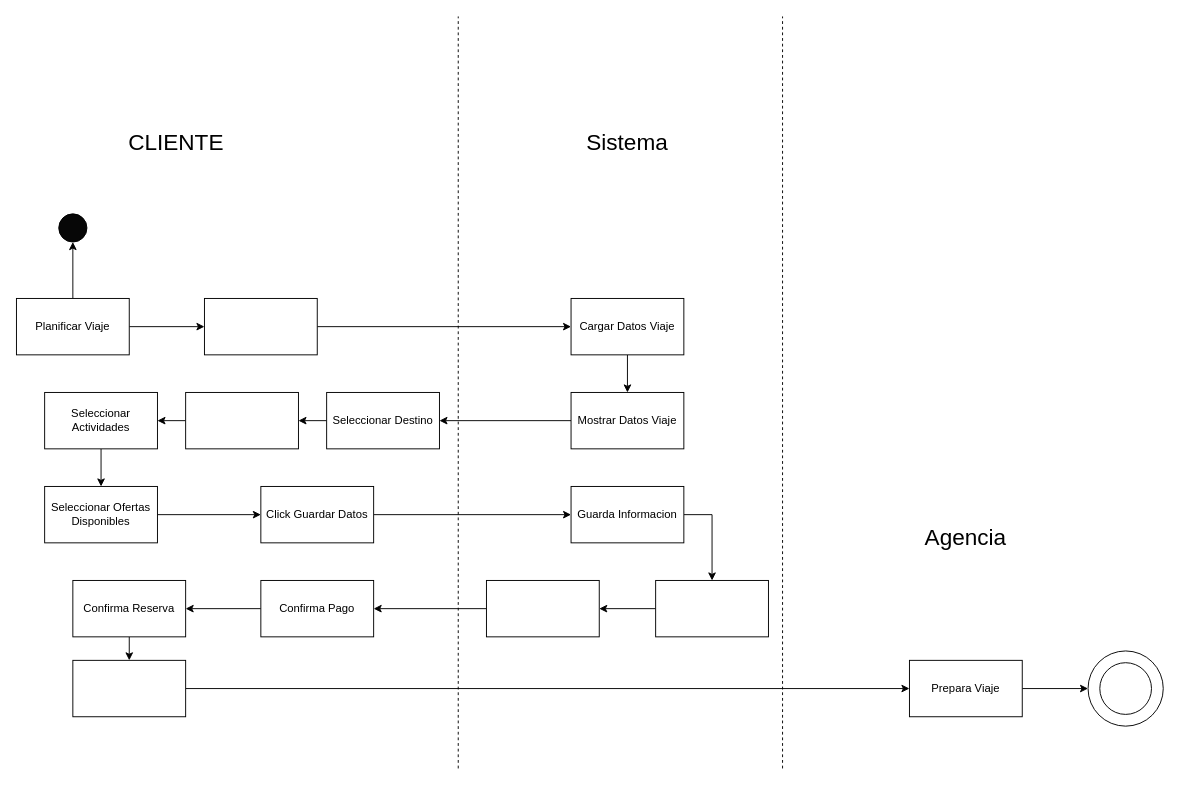
Image size: 1180x786. Some labels were removed from this diagram. Each missing label, with the centre of its shape:
Aplica las Ofertas: pixel 711 608
Calcula Pago: pixel 542 608
Click Siguiente: pixel 260 326
Confirma Viaje: pixel 129 688
Seleccionar Datos Hoteles: pixel 241 420
